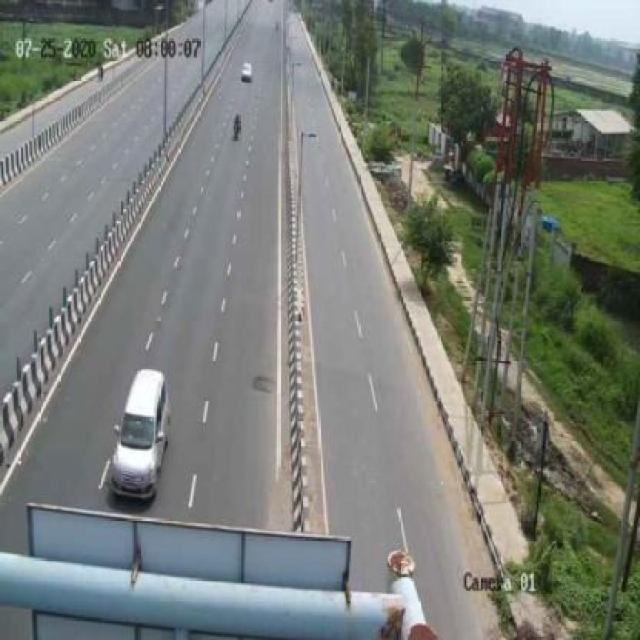car: (108, 363, 175, 502), (237, 60, 258, 83)
